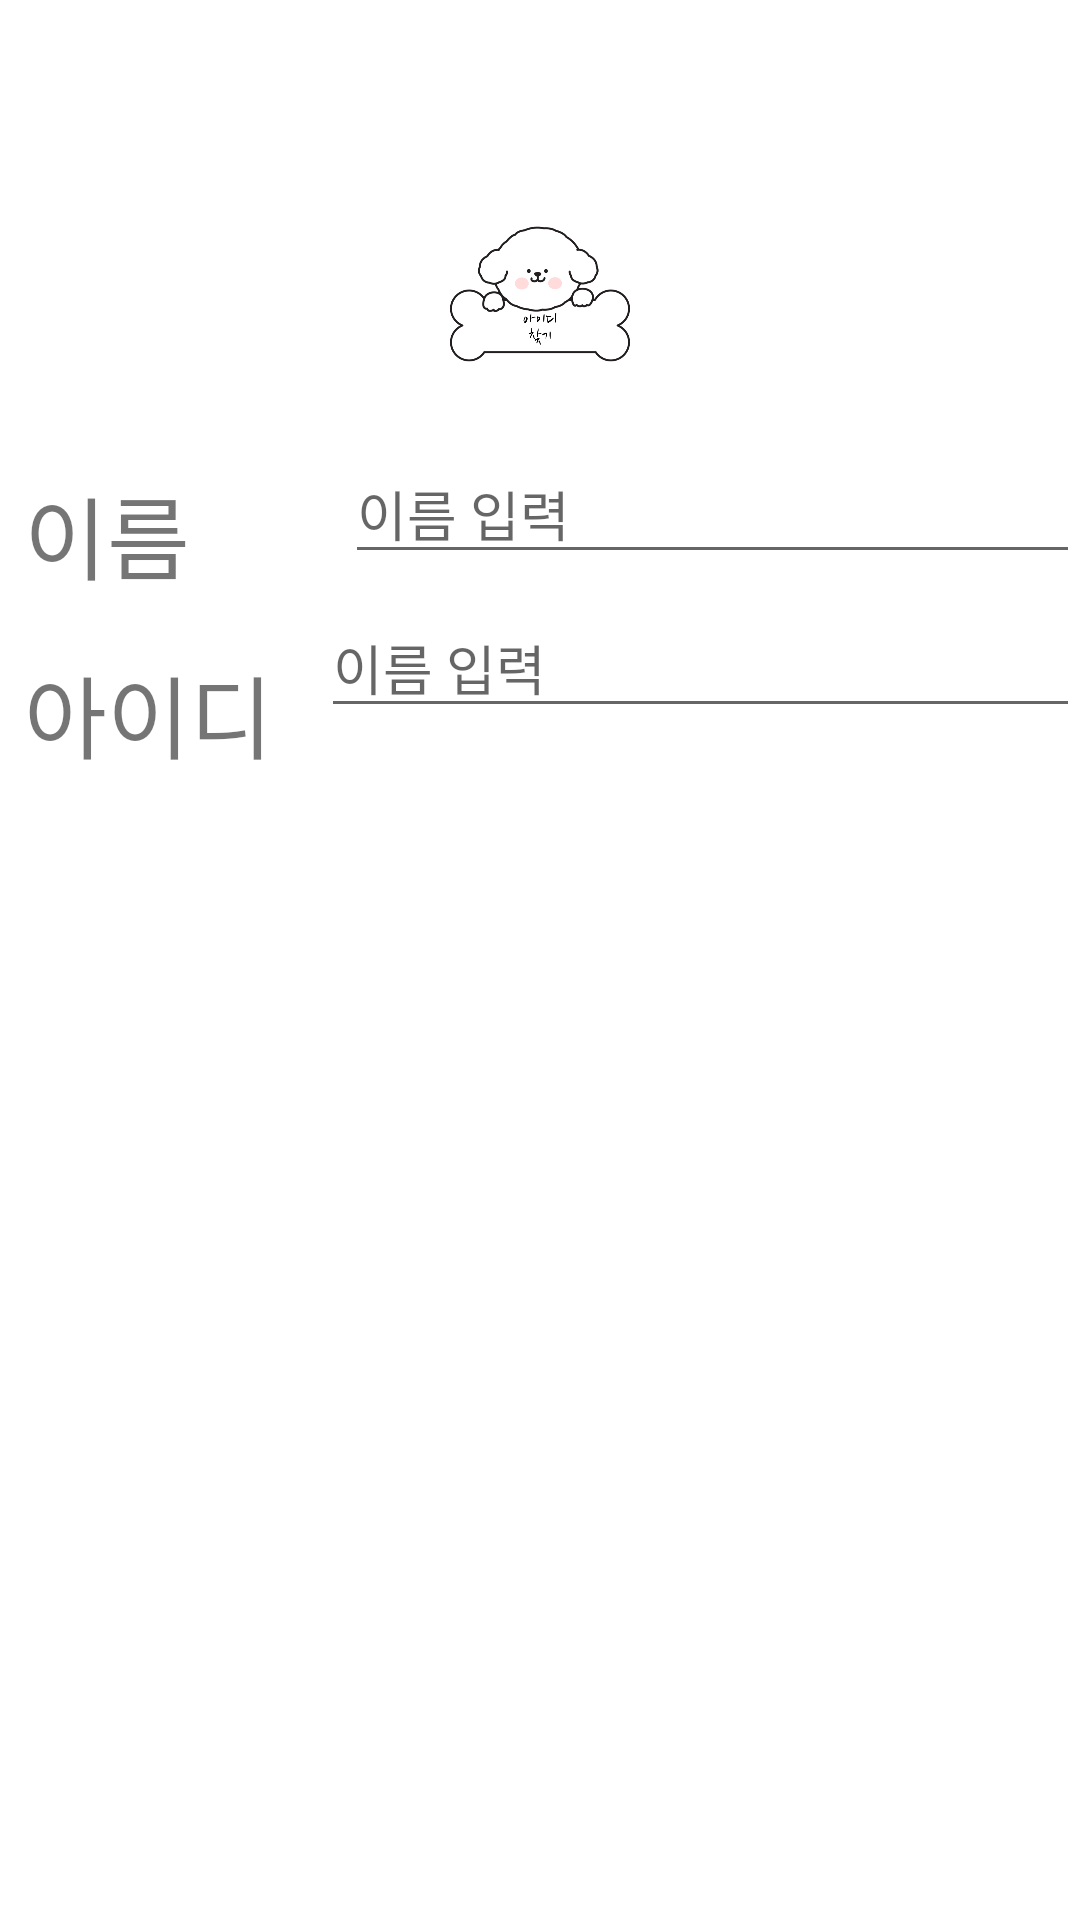

Where to tap for icons on this 1080 x 1920 app screen, as (x=x, y=y):
love dogid: (x=540, y=294)
